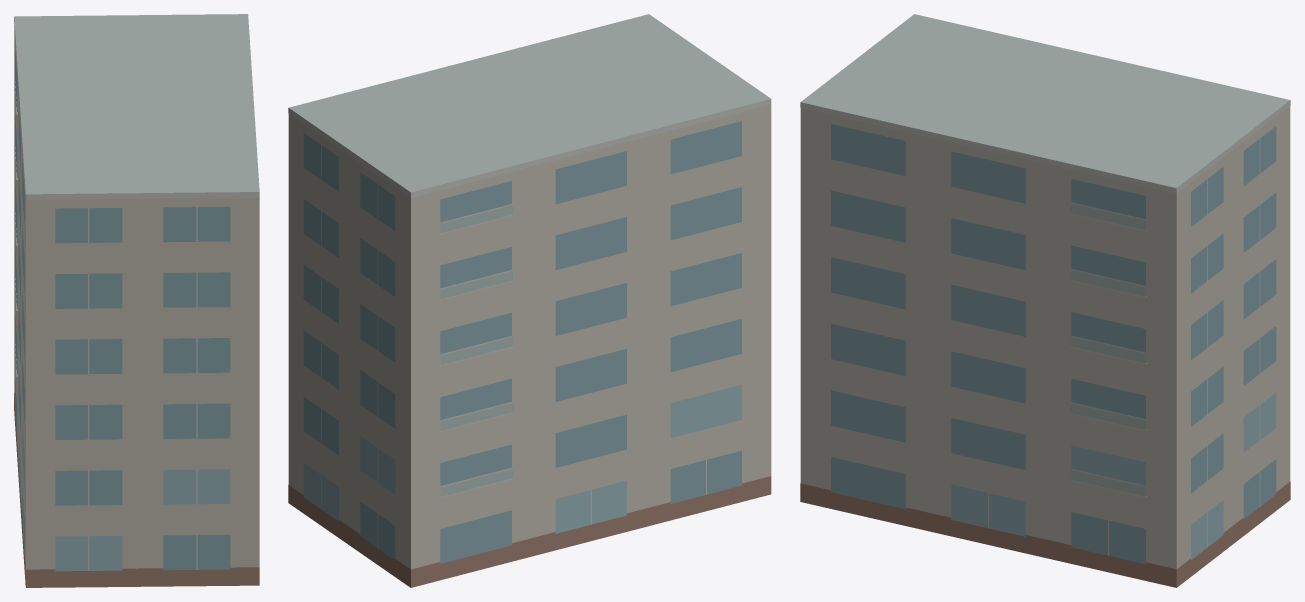
The model's file is survey-upis-32657335.glb.
3 views of the same model, side by side, from view 1: azimuth 30°, elevation 25°; view 2: azimuth 150°, elevation 25°; view 3: azimuth 270°, elevation 25° (orthographic).
Parts seen in each view (by area): view 1: survey-upis-32657335.tmp; view 2: survey-upis-32657335.tmp; view 3: survey-upis-32657335.tmp.
Part boxes in pixels (box(x1,y1,x2,y2)): survey-upis-32657335.tmp: box(14, 14, 259, 587); survey-upis-32657335.tmp: box(288, 14, 771, 587); survey-upis-32657335.tmp: box(800, 14, 1290, 587).
Bounding box in the file's own units: 16.18 × 17.3 × 19.23.
